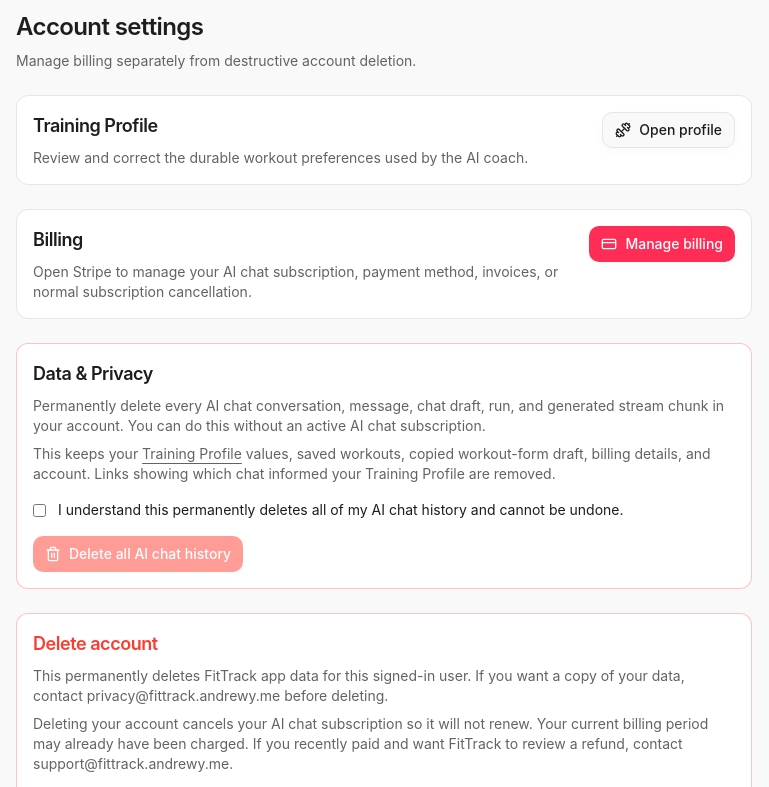
Scenario: AccountSettingsPage › keeps local chat state when the server cannot atomically delete history
Click the checkbox labelled "I understand this permanently deletes all of my AI chat history". click: (40, 510)
box: [33, 504, 46, 517]
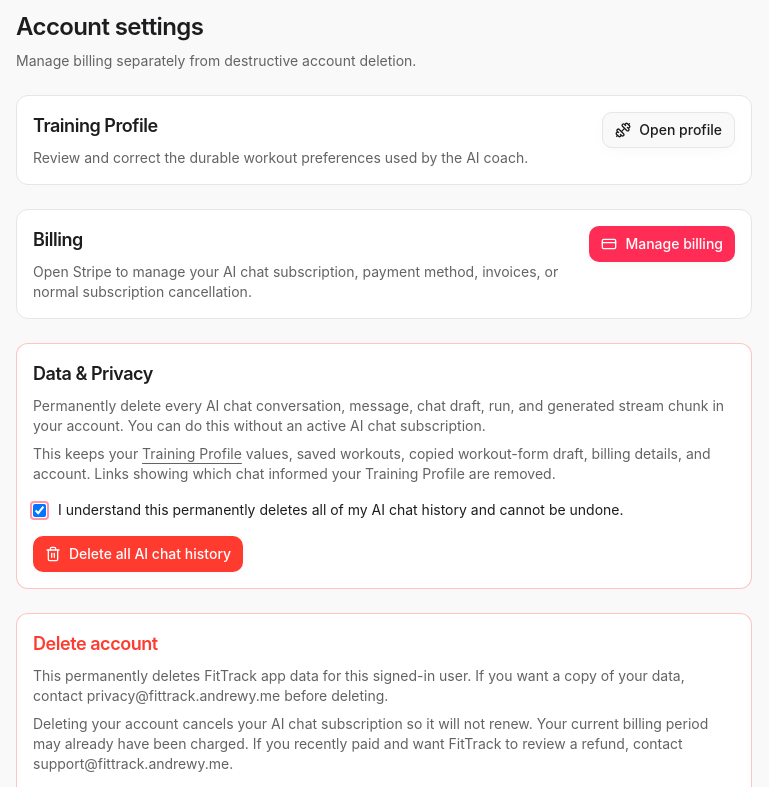
Click the button "Delete all AI chat history". click: (138, 554)
box: [33, 536, 243, 572]
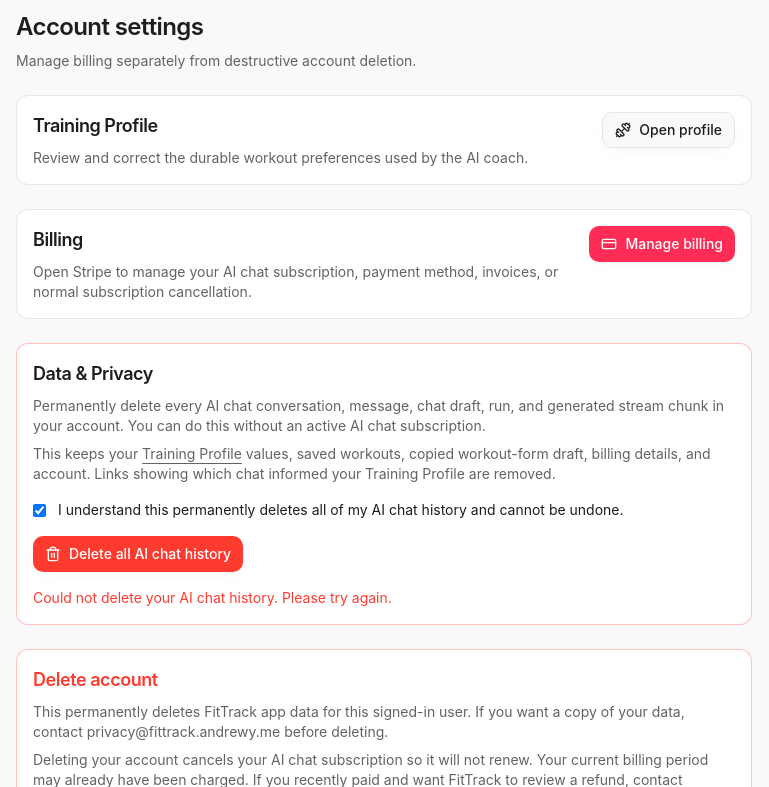
expect the text "Could not delete your AI chat history. Please try again." is shown: met, box [33, 589, 392, 606]
